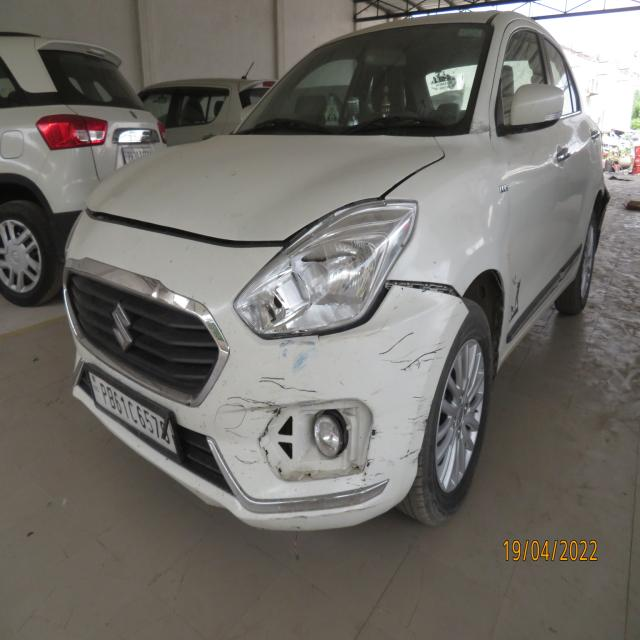damage: (373, 308, 462, 481), (216, 355, 315, 480), (242, 232, 353, 334), (261, 399, 368, 486), (80, 150, 161, 228), (387, 264, 463, 304)
